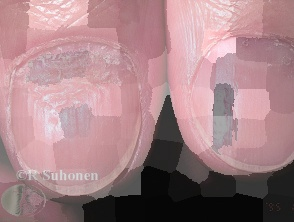Nail_psoriasis: (0, 19, 164, 210), (171, 10, 294, 179)
